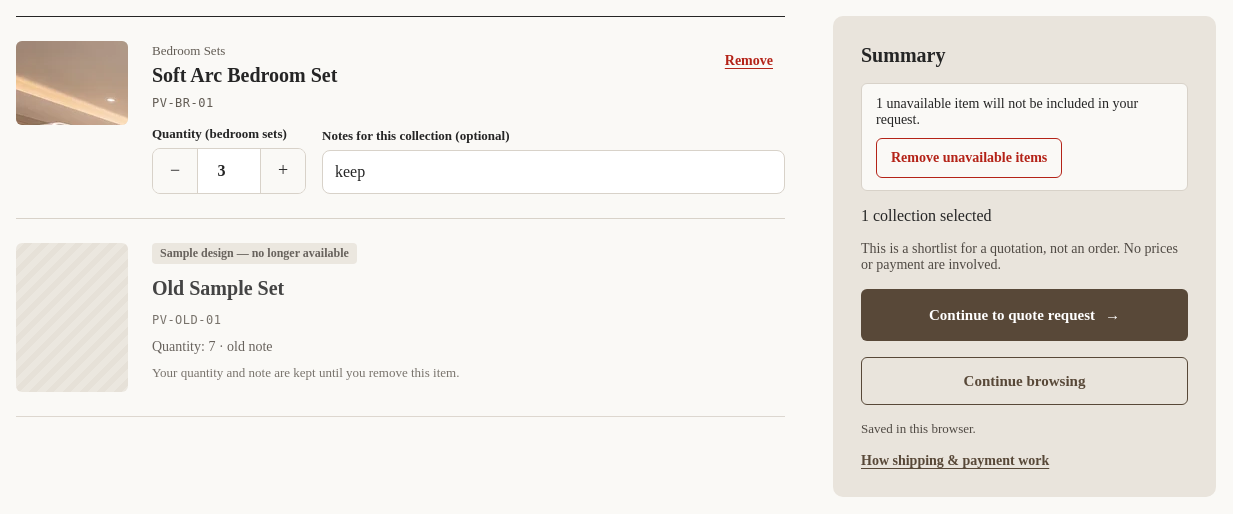
Scenario: Inquiry List with an archived product (persisted data) › lets the buyer remove unavailable items and keep the valid one — nothing is re-mapped
This screenshot has width=1233, height=514.
expect the list item with test id "archived-row" is shown: met, box top-left (16, 219), bottom-right (785, 417)
Step 1. Click the button "Remove unavailable items" → x=969, y=158, box top-left (876, 138), bottom-right (1062, 178)
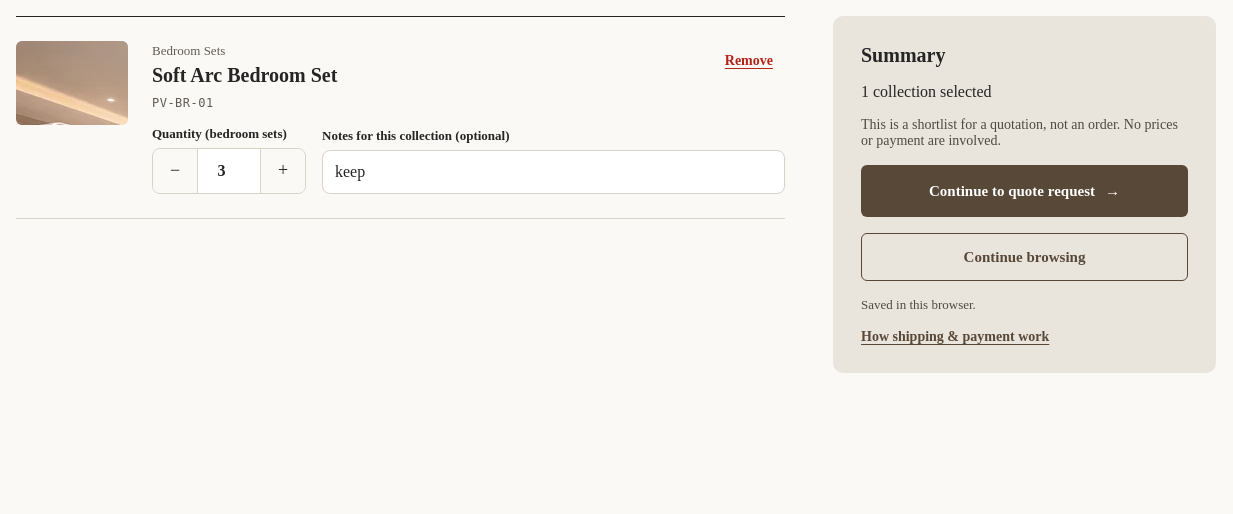
expect the list item with test id "archived-row" is gone: met
